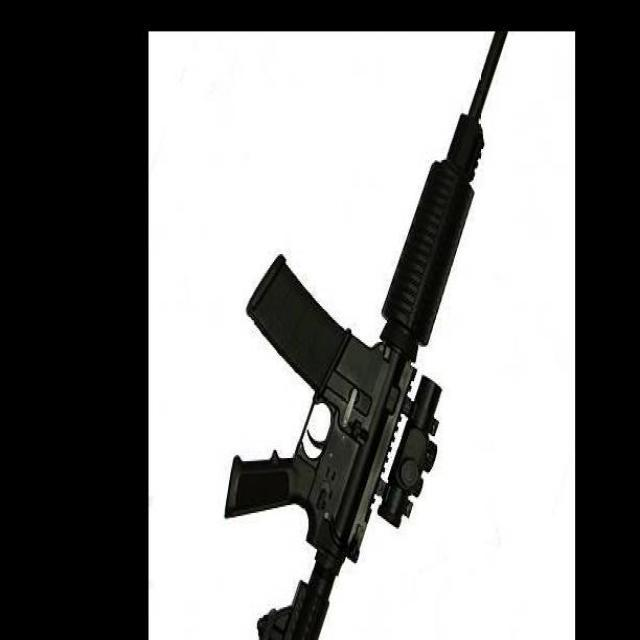weapon: (222, 32, 508, 640)
